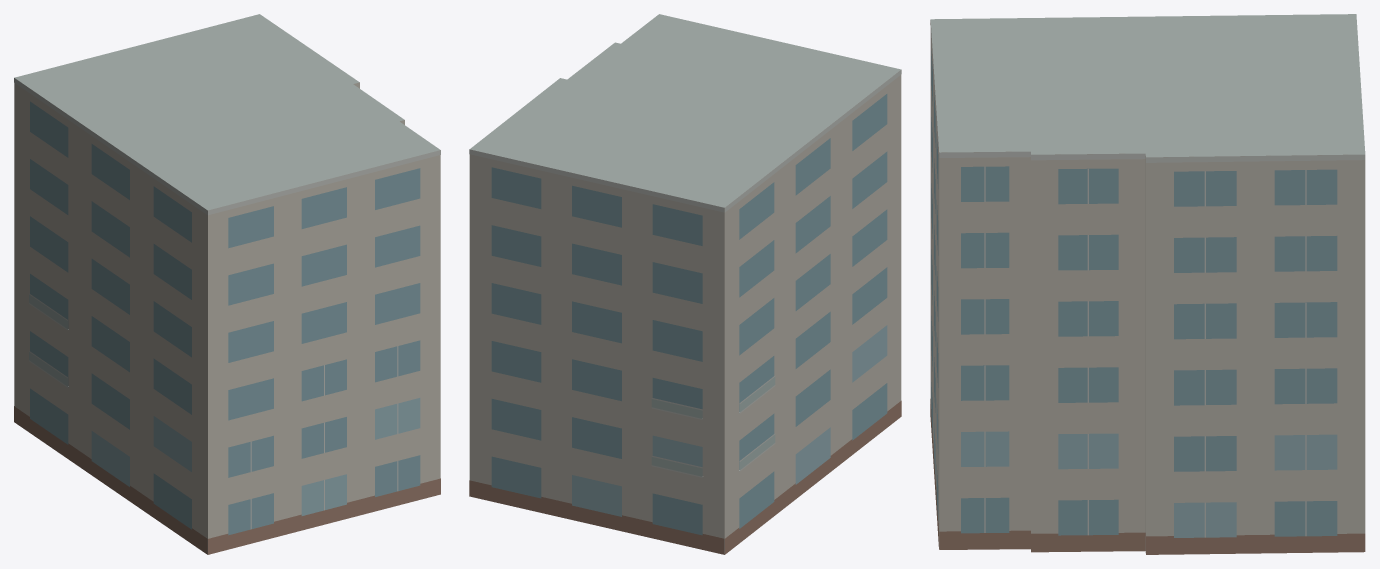
File: survey-upis-32575935.glb
3 views of the same model, side by side, from view 1: azimuth 30°, elevation 25°; view 2: azimuth 150°, elevation 25°; view 3: azimuth 270°, elevation 25° (orthographic). The views are drawn at different scales.
Visible parts, largest first — view 1: survey-upis-32575935.tmp; view 2: survey-upis-32575935.tmp; view 3: survey-upis-32575935.tmp.
Boxes of the visible parts, x1,y1,x2,y2 form: survey-upis-32575935.tmp: (14,14,440,554); survey-upis-32575935.tmp: (469,14,901,554); survey-upis-32575935.tmp: (930,14,1365,554).
Size of the model in its own units: 13.39 by 17.3 by 17.16.
